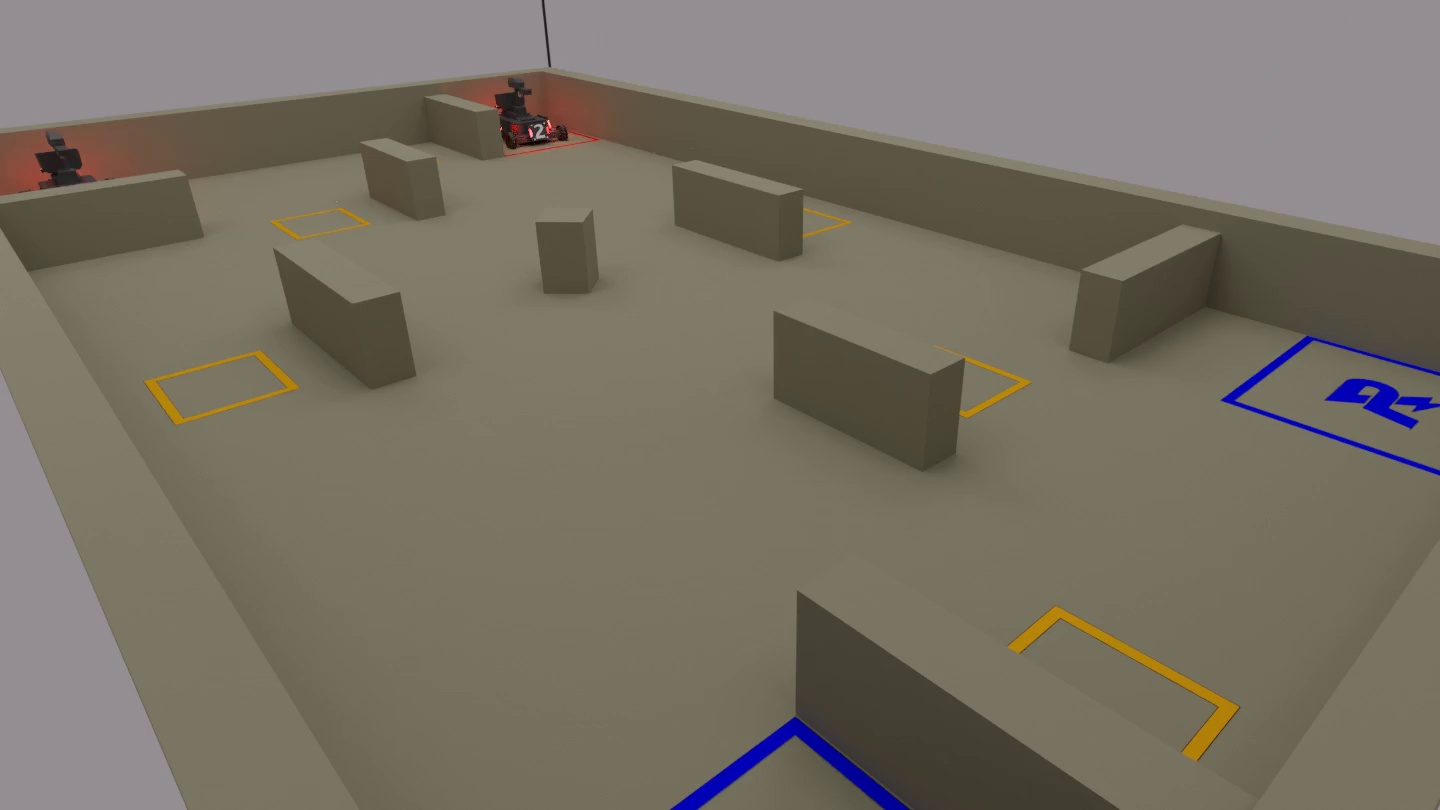Bot 1: (20, 127, 162, 249)
Bot 2: (464, 75, 584, 154)
